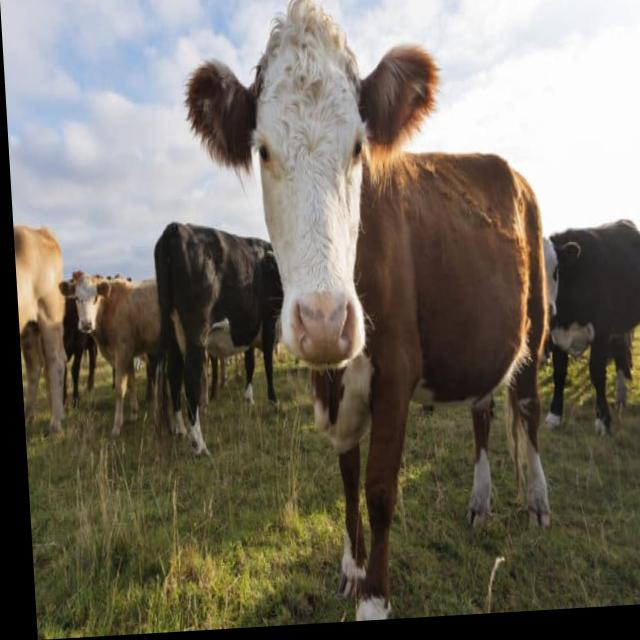cowFace: (179, 0, 453, 389)
